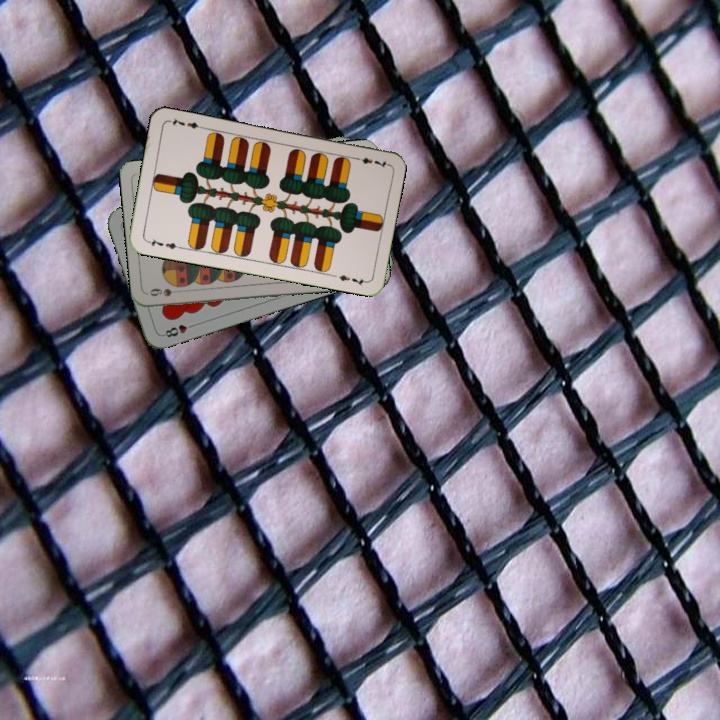E7: (350, 153, 390, 171), (143, 235, 183, 252)
H8: (159, 320, 198, 340)
S9: (146, 284, 186, 299)
